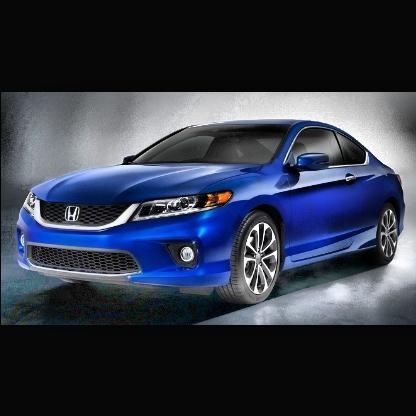Honda Accord Coupe 2012: (16, 122, 408, 304)
